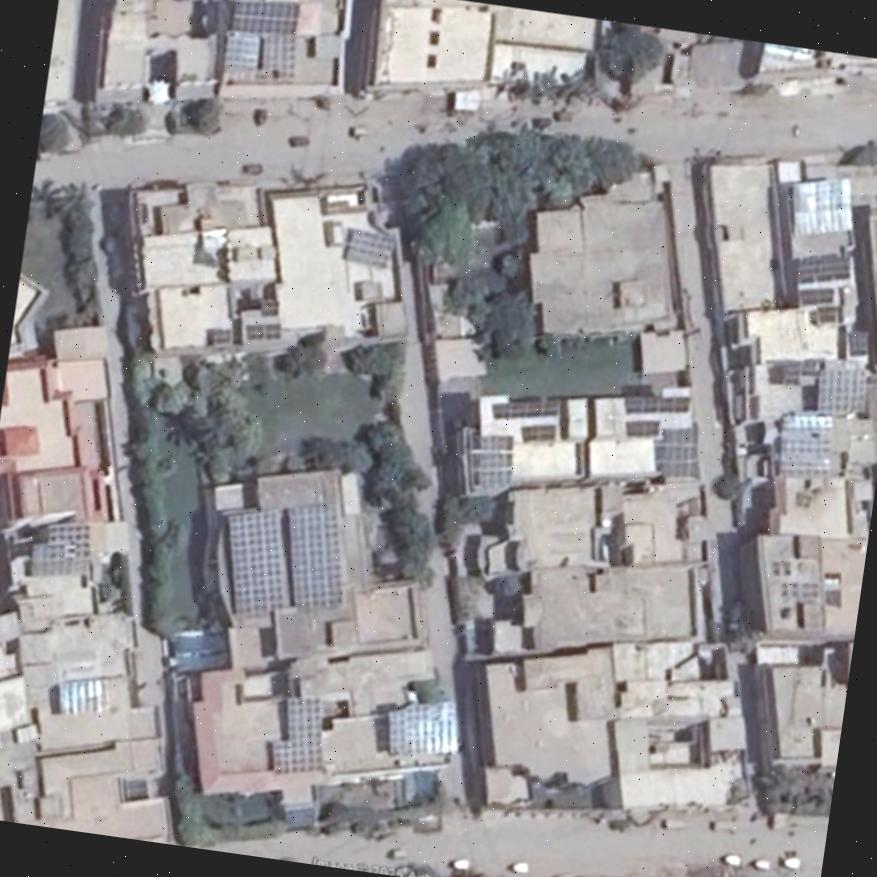Solarpanel: (225, 506, 289, 613), (287, 505, 340, 606), (219, 0, 294, 67), (263, 696, 324, 771), (387, 704, 457, 752), (660, 429, 700, 479), (817, 368, 864, 410), (341, 231, 394, 264), (55, 676, 102, 713), (477, 435, 511, 482), (795, 257, 850, 278), (492, 401, 560, 417), (623, 395, 691, 410), (520, 421, 556, 440), (797, 287, 831, 304), (246, 322, 280, 338), (624, 421, 658, 432), (818, 303, 835, 319)
